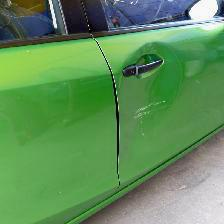door_dent: (126, 39, 196, 130)
